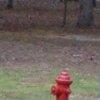a fire hydrant: (52, 69, 73, 100)
